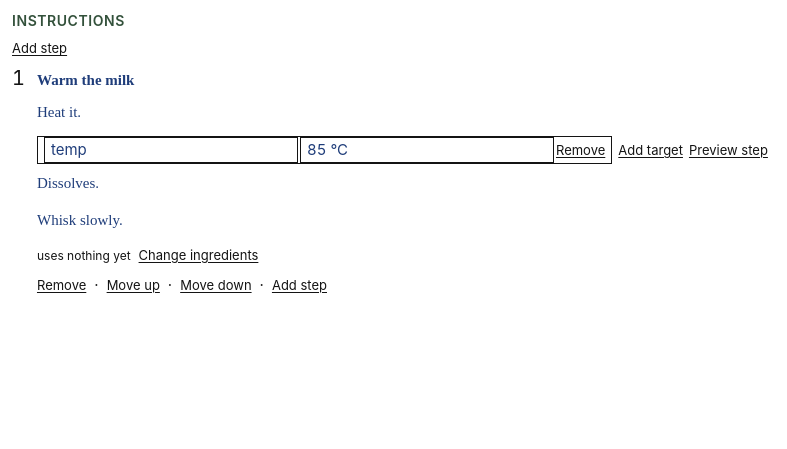
it: Preview step (sketch 013 decision 34, decision 014 2) › reads Hide preview while open and draws the step as the Sheet shows it, after the aside field and before the uses line
The width and height of the screenshot is (787, 449).
Click the button "Preview step".
click(728, 150)  # box 689,136 -> 768,164
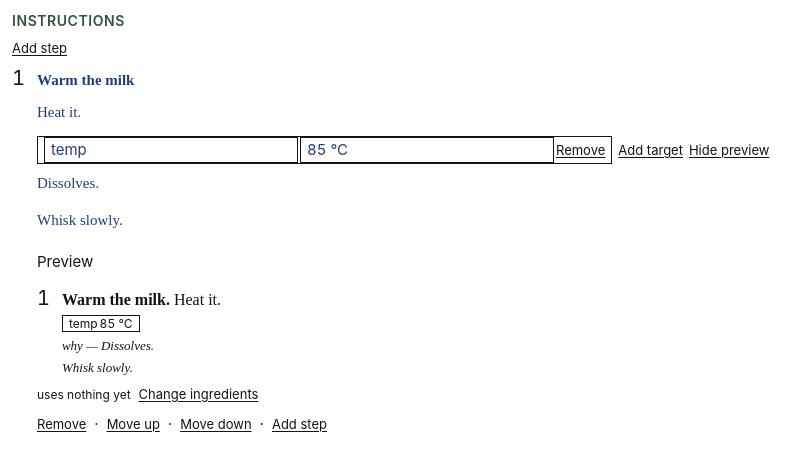
Now the button "Hide preview" is shown
Now the text with class "mk-preview__cue" reads "Preview", box 37,252 -> 93,271
Now the element with class "method-step__lead" reads "Warm the milk. Heat it.", box 62,291 -> 221,308
Click the button "Hide preview".
click(729, 150)  # box 689,136 -> 769,164
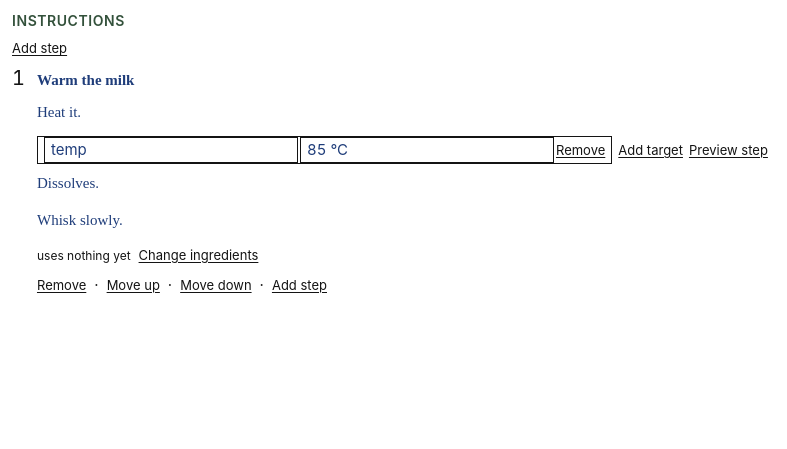
Now the element with class "mk-preview" is gone
Now the button "Preview step" is shown, box 689,136 -> 768,164
